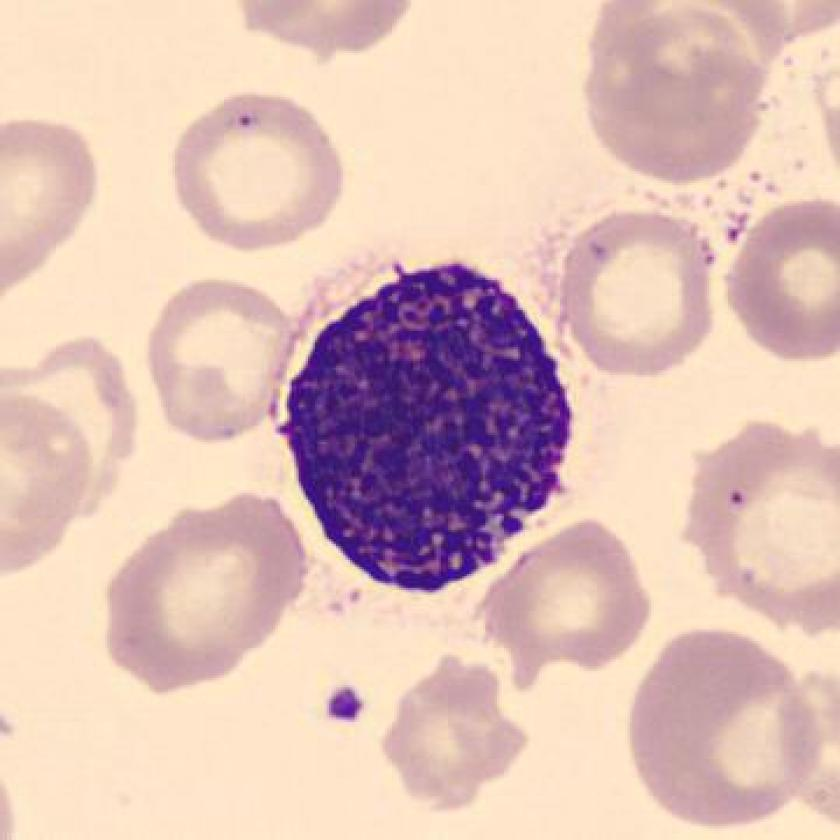basophil: (277, 256, 585, 605)
